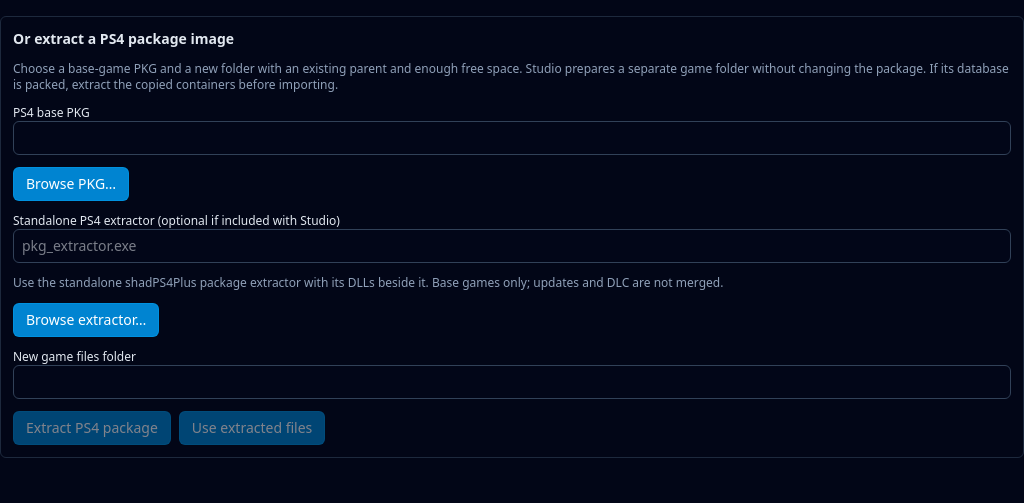
Scenario: never opens a failed partial disc
In the field labelled "PS4 base PKG": (512, 138) [13,121,1011,155], type "X:/NHL21.pkg"
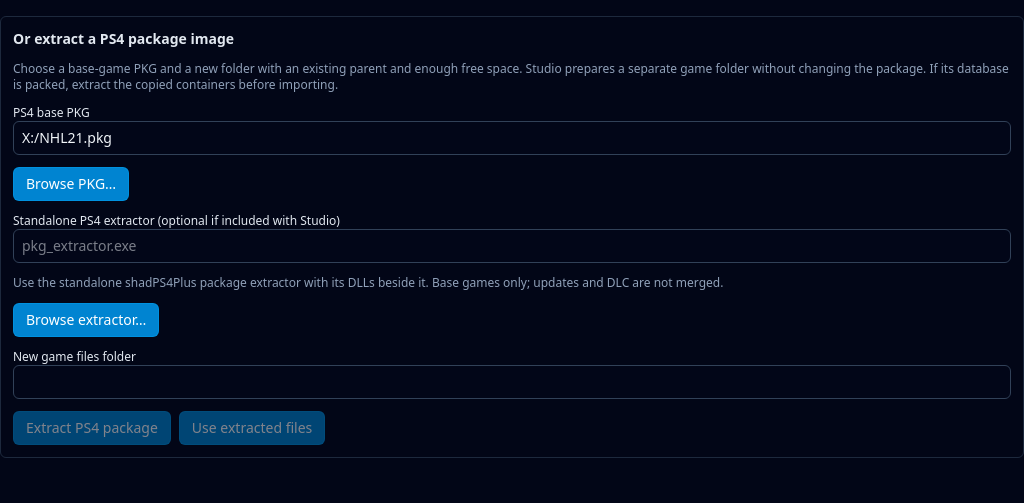
In the field named "PS4 package output folder": (512, 382) [13,365,1011,399], type "E:/new disc"
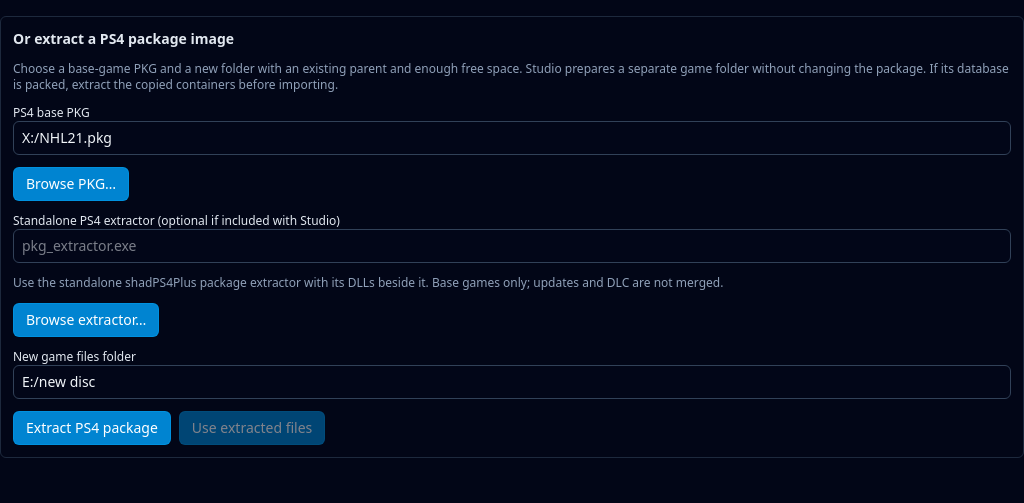
Click the button "Extract PS4 package": (92, 428) [13,411,171,445]
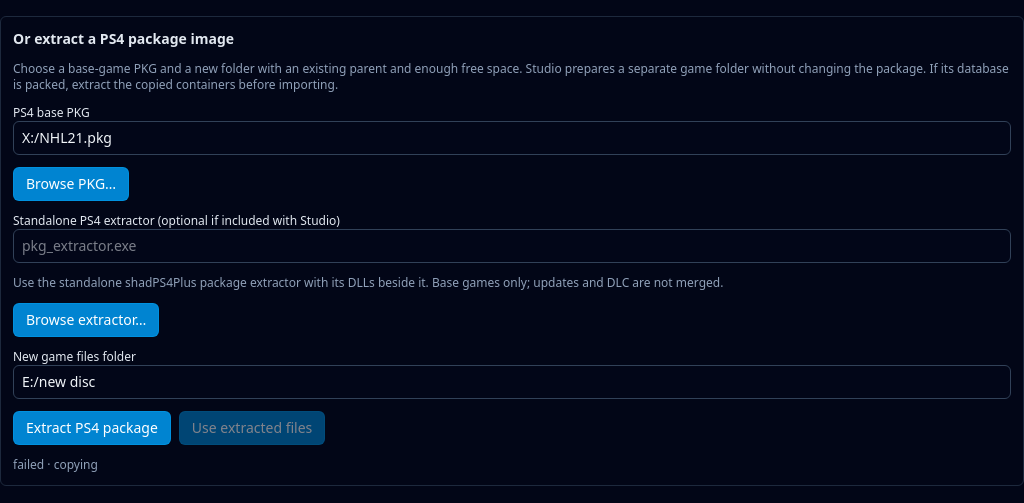
Expected: the button "Use extracted files" is disabled, [179,411,325,445]
Now the message shows "failed", box [13,456,44,473]
